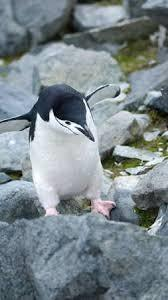chinstrap: (2, 70, 136, 230)
